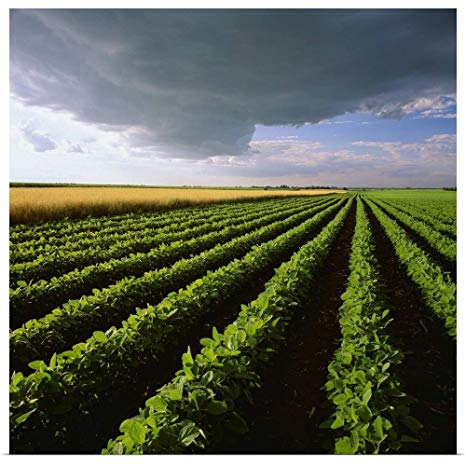soyabean: (152, 221, 343, 452), (10, 314, 149, 427), (337, 209, 384, 444)
